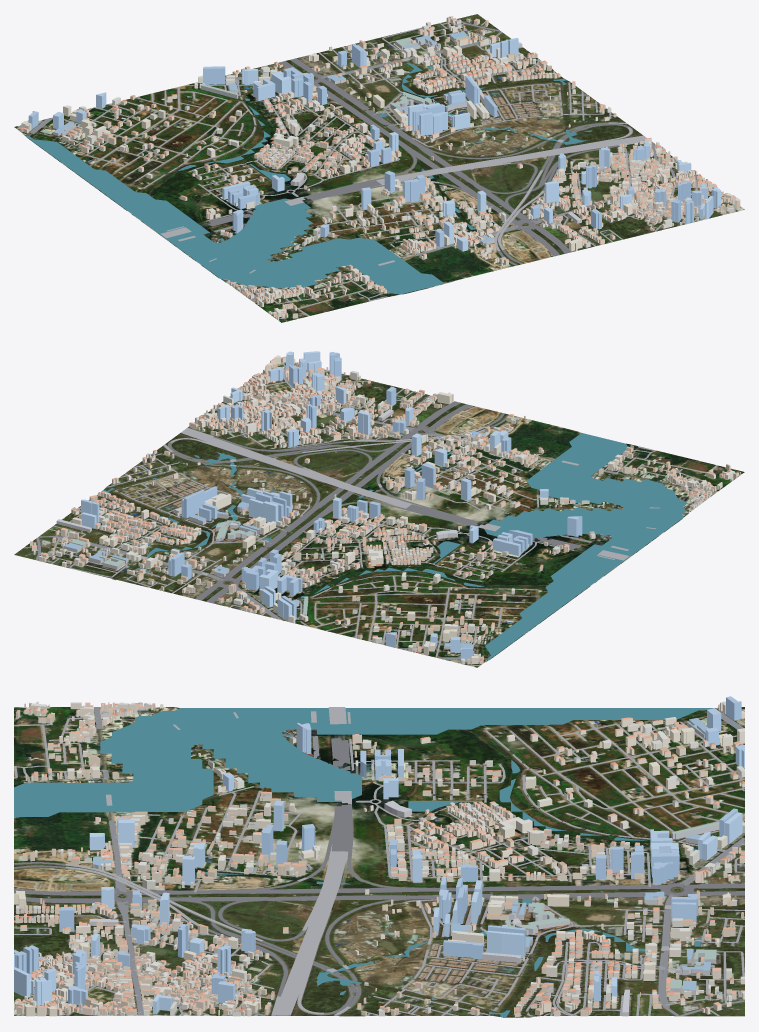
3 renders of one model, top to bottom at view 1: azimuth 30°, elevation 25°; view 2: azimuth 150°, elevation 25°; view 3: azimuth 270°, elevation 25°, orthographic. The views are drawn at different scales.
Parts seen in each view (by area): view 1: TERRAIN, BLDG_TUBE_SHOPHOUSE, ROAD_METRO, WATER, BLDG_MODERN_TOWER, BLDG_VILLA, BLDG_APARTMENT, BLDG_INDUSTRIAL_PORT; view 2: TERRAIN, BLDG_TUBE_SHOPHOUSE, ROAD_METRO, WATER, BLDG_MODERN_TOWER, BLDG_VILLA, BLDG_APARTMENT, BLDG_INDUSTRIAL_PORT; view 3: TERRAIN, BLDG_TUBE_SHOPHOUSE, ROAD_METRO, WATER, BLDG_MODERN_TOWER, BLDG_VILLA, BLDG_APARTMENT, BLDG_INDUSTRIAL_PORT.
Part boxes in pixels (x1,y1,x2,y2): TERRAIN: [14, 14, 744, 322]; BLDG_TUBE_SHOPHOUSE: [23, 16, 743, 319]; ROAD_METRO: [17, 20, 741, 318]; WATER: [23, 54, 592, 296]; BLDG_MODERN_TOWER: [28, 38, 720, 251]; BLDG_VILLA: [19, 20, 721, 316]; BLDG_APARTMENT: [21, 45, 740, 317]; BLDG_INDUSTRIAL_PORT: [53, 31, 581, 245]; TERRAIN: [14, 359, 744, 667]; BLDG_TUBE_SHOPHOUSE: [30, 356, 740, 664]; ROAD_METRO: [24, 362, 739, 665]; WATER: [101, 433, 688, 661]; BLDG_MODERN_TOWER: [81, 351, 582, 661]; BLDG_VILLA: [43, 369, 729, 663]; BLDG_APARTMENT: [72, 355, 735, 663]; BLDG_INDUSTRIAL_PORT: [56, 409, 485, 649]; TERRAIN: [14, 707, 744, 1017]; BLDG_TUBE_SHOPHOUSE: [14, 701, 744, 1016]; ROAD_METRO: [14, 707, 744, 1016]; WATER: [14, 708, 715, 1016]; BLDG_MODERN_TOWER: [14, 696, 744, 1014]; BLDG_VILLA: [19, 702, 744, 1017]; BLDG_APARTMENT: [14, 703, 744, 1016]; BLDG_INDUSTRIAL_PORT: [89, 718, 719, 1016].
Size of the model in its own units: 2000 by 90.16 by 2000.
8 materials, 1 textured.
